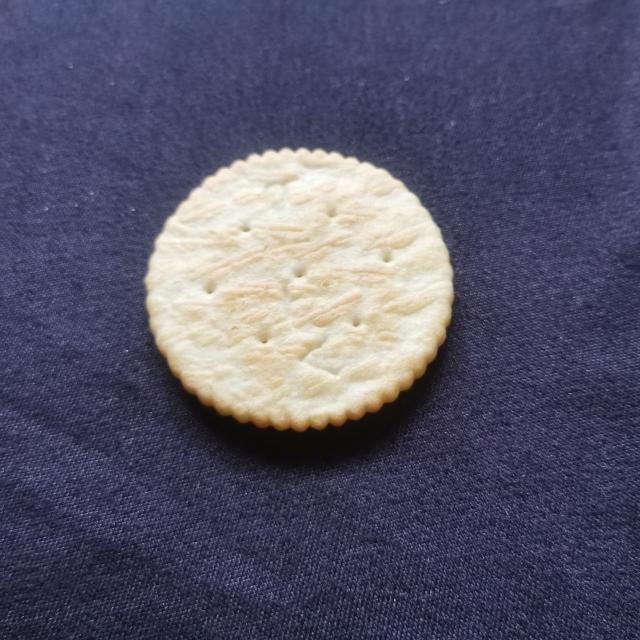Intact: (132, 134, 471, 446)
